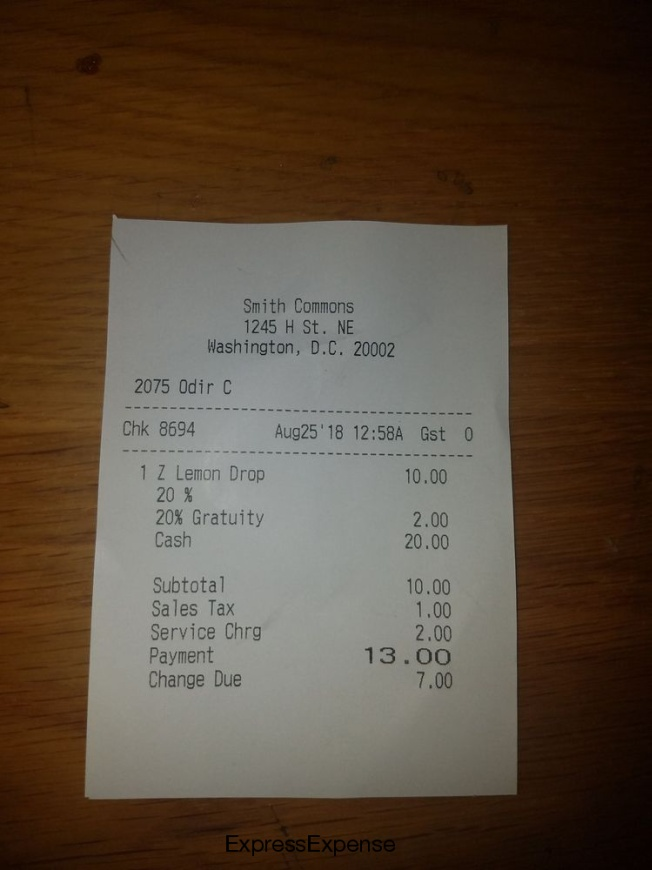Purchase summary: (108, 372, 503, 715)
Receipt: (81, 216, 512, 801)
Shop details: (204, 287, 404, 368)
